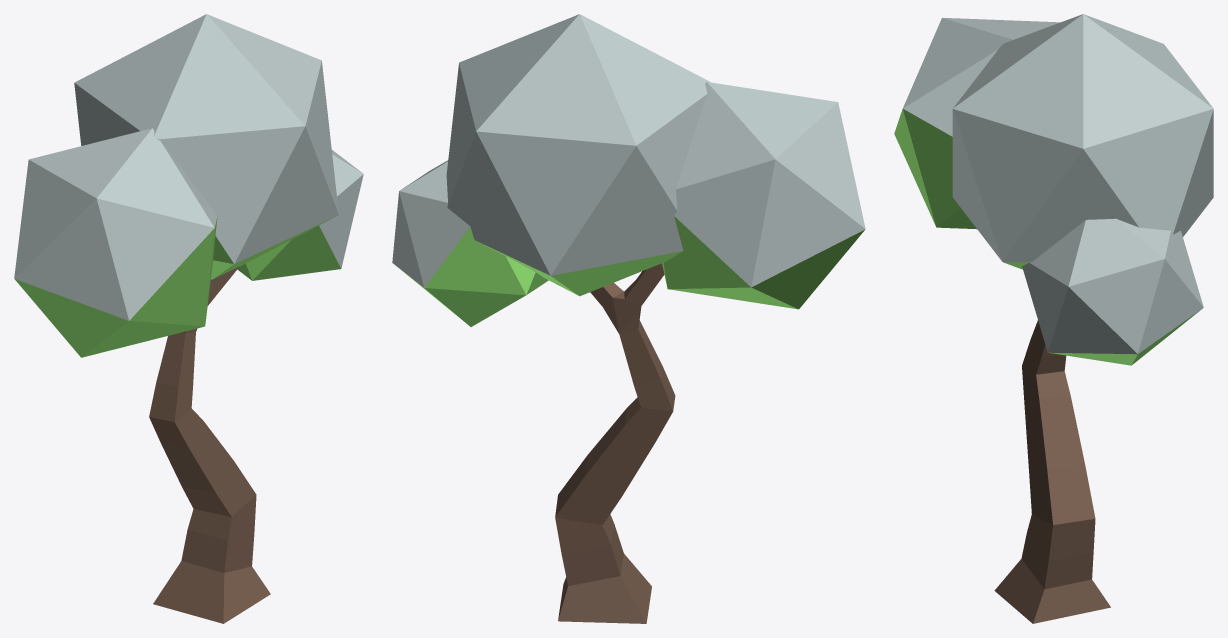
Rendered from tree_frozen4.fbx.
3 views of the same model, side by side, from view 1: azimuth 30°, elevation 25°; view 2: azimuth 150°, elevation 25°; view 3: azimuth 270°, elevation 25° (orthographic). The views are drawn at different scales.
Parts seen in each view (by area): view 1: tree_frozen4; view 2: tree_frozen4; view 3: tree_frozen4.
Boxes of the visible parts, x1,y1,x2,y2 form: tree_frozen4: (14, 14, 363, 623); tree_frozen4: (392, 14, 865, 623); tree_frozen4: (894, 14, 1213, 623).
Bounding box in the file's own units: 2.66 × 1.86 × 3.78.
